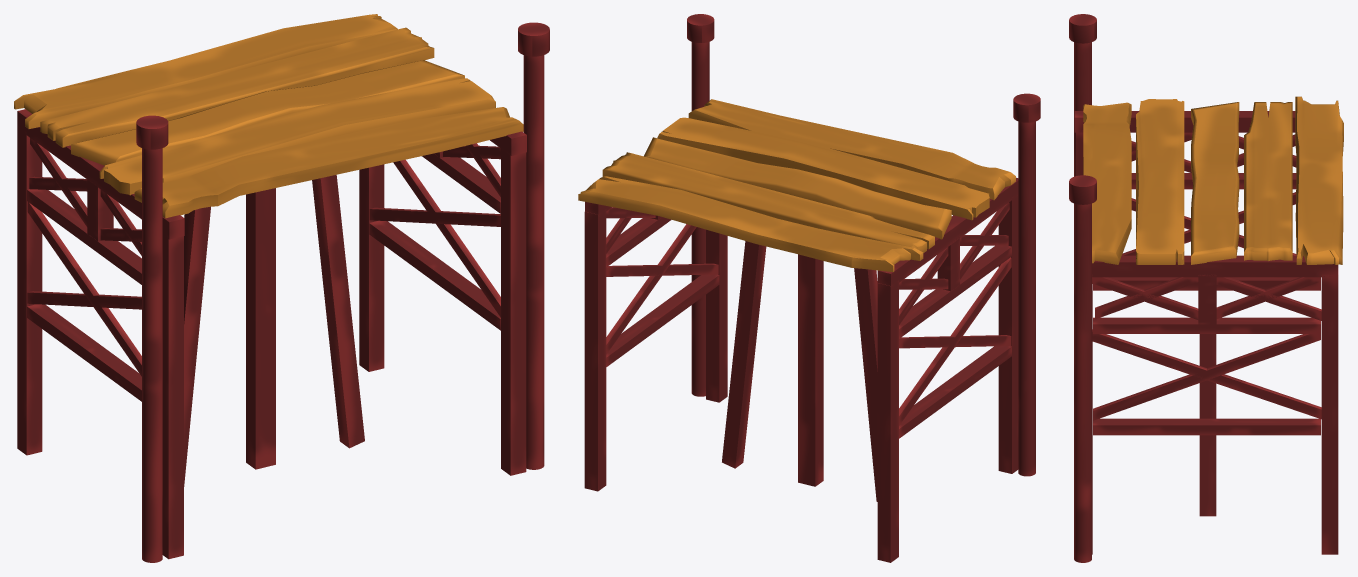
The model's file is Env_Harbor_Prop_Pier_02.fbx.
3 renders of one model, left to right at view 1: azimuth 30°, elevation 25°; view 2: azimuth 150°, elevation 25°; view 3: azimuth 270°, elevation 25°, orthographic. The views are drawn at different scales.
Parts seen in each view (by area): view 1: Env_Harbor_Prop_Pier_02:polySurface3, Env_Harbor_Prop_Pier_02:polySurface70, Env_Harbor_Prop_Pier_02:polySurface84, Env_Harbor_Prop_Pier_02:polySurface87, Env_Harbor_Prop_Pier_02:polySurface64, Env_Harbor_Prop_Pier_02:polySurface73, Env_Harbor_Prop_Pier_02:polySurface66, Env_Harbor_Prop_Pier_02:polySurface79, Env_Harbor_Prop_Pier_02:polySurface80, Env_Harbor_Prop_Pier_02:polySurface65, Env_Harbor_Prop_Pier_02:polySurface82, Env_Harbor_Prop_Pier_02:polySurface68 (+11 smaller); view 2: Env_Harbor_Prop_Pier_02:polySurface3, Env_Harbor_Prop_Pier_02:polySurface70, Env_Harbor_Prop_Pier_02:polySurface80, Env_Harbor_Prop_Pier_02:polySurface66, Env_Harbor_Prop_Pier_02:polySurface64, Env_Harbor_Prop_Pier_02:polySurface79, Env_Harbor_Prop_Pier_02:polySurface73, Env_Harbor_Prop_Pier_02:polySurface84, Env_Harbor_Prop_Pier_02:polySurface87, Env_Harbor_Prop_Pier_02:polySurface65, Env_Harbor_Prop_Pier_02:polySurface82, Env_Harbor_Prop_Pier_02:polySurface68 (+10 smaller); view 3: Env_Harbor_Prop_Pier_02:polySurface3, Env_Harbor_Prop_Pier_02:polySurface84, Env_Harbor_Prop_Pier_02:polySurface80, Env_Harbor_Prop_Pier_02:polySurface82, Env_Harbor_Prop_Pier_02:polySurface86, Env_Harbor_Prop_Pier_02:polySurface85, Env_Harbor_Prop_Pier_02:polySurface83, Env_Harbor_Prop_Pier_02:polySurface89, Env_Harbor_Prop_Pier_02:polySurface79, Env_Harbor_Prop_Pier_02:polySurface70, Env_Harbor_Prop_Pier_02:polySurface68, Env_Harbor_Prop_Pier_02:polySurface90 (+7 smaller).
Boxes of the visible parts, x1,y1,x2,y2 form: Env_Harbor_Prop_Pier_02:polySurface3: [14, 14, 523, 218]; Env_Harbor_Prop_Pier_02:polySurface70: [136, 115, 168, 562]; Env_Harbor_Prop_Pier_02:polySurface84: [518, 22, 549, 469]; Env_Harbor_Prop_Pier_02:polySurface87: [501, 148, 526, 475]; Env_Harbor_Prop_Pier_02:polySurface64: [246, 188, 275, 469]; Env_Harbor_Prop_Pier_02:polySurface73: [162, 232, 183, 559]; Env_Harbor_Prop_Pier_02:polySurface66: [17, 125, 42, 455]; Env_Harbor_Prop_Pier_02:polySurface79: [312, 175, 364, 448]; Env_Harbor_Prop_Pier_02:polySurface80: [359, 164, 384, 371]; Env_Harbor_Prop_Pier_02:polySurface65: [184, 206, 210, 486]; Env_Harbor_Prop_Pier_02:polySurface82: [369, 220, 500, 330]; Env_Harbor_Prop_Pier_02:polySurface68: [27, 304, 141, 401]; Env_Harbor_Prop_Pier_02:polySurface3: [578, 99, 1015, 272]; Env_Harbor_Prop_Pier_02:polySurface70: [1013, 93, 1040, 476]; Env_Harbor_Prop_Pier_02:polySurface80: [584, 209, 606, 491]; Env_Harbor_Prop_Pier_02:polySurface66: [877, 280, 898, 562]; Env_Harbor_Prop_Pier_02:polySurface64: [798, 254, 823, 486]; Env_Harbor_Prop_Pier_02:polySurface79: [722, 241, 766, 468]; Env_Harbor_Prop_Pier_02:polySurface73: [998, 195, 1018, 473]; Env_Harbor_Prop_Pier_02:polySurface84: [687, 14, 714, 396]; Env_Harbor_Prop_Pier_02:polySurface87: [706, 229, 727, 402]; Env_Harbor_Prop_Pier_02:polySurface65: [854, 268, 877, 501]; Env_Harbor_Prop_Pier_02:polySurface82: [606, 274, 719, 366]; Env_Harbor_Prop_Pier_02:polySurface68: [899, 346, 1011, 438]; Env_Harbor_Prop_Pier_02:polySurface3: [1083, 96, 1343, 264]; Env_Harbor_Prop_Pier_02:polySurface84: [1069, 175, 1096, 562]; Env_Harbor_Prop_Pier_02:polySurface80: [1321, 268, 1338, 554]; Env_Harbor_Prop_Pier_02:polySurface82: [1093, 418, 1320, 435]; Env_Harbor_Prop_Pier_02:polySurface86: [1092, 255, 1337, 277]; Env_Harbor_Prop_Pier_02:polySurface85: [1093, 317, 1320, 333]; Env_Harbor_Prop_Pier_02:polySurface83: [1093, 334, 1320, 420]; Env_Harbor_Prop_Pier_02:polySurface89: [1092, 329, 1321, 419]; Env_Harbor_Prop_Pier_02:polySurface79: [1199, 334, 1216, 516]; Env_Harbor_Prop_Pier_02:polySurface70: [1069, 14, 1096, 176]; Env_Harbor_Prop_Pier_02:polySurface68: [1093, 277, 1320, 290]; Env_Harbor_Prop_Pier_02:polySurface90: [1216, 277, 1321, 320].
Bounding box in the file's own units: 2192 × 2251 × 1471.
